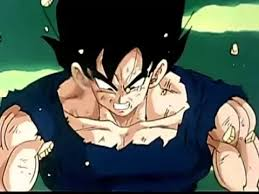Songoku: (67, 37, 172, 116)
